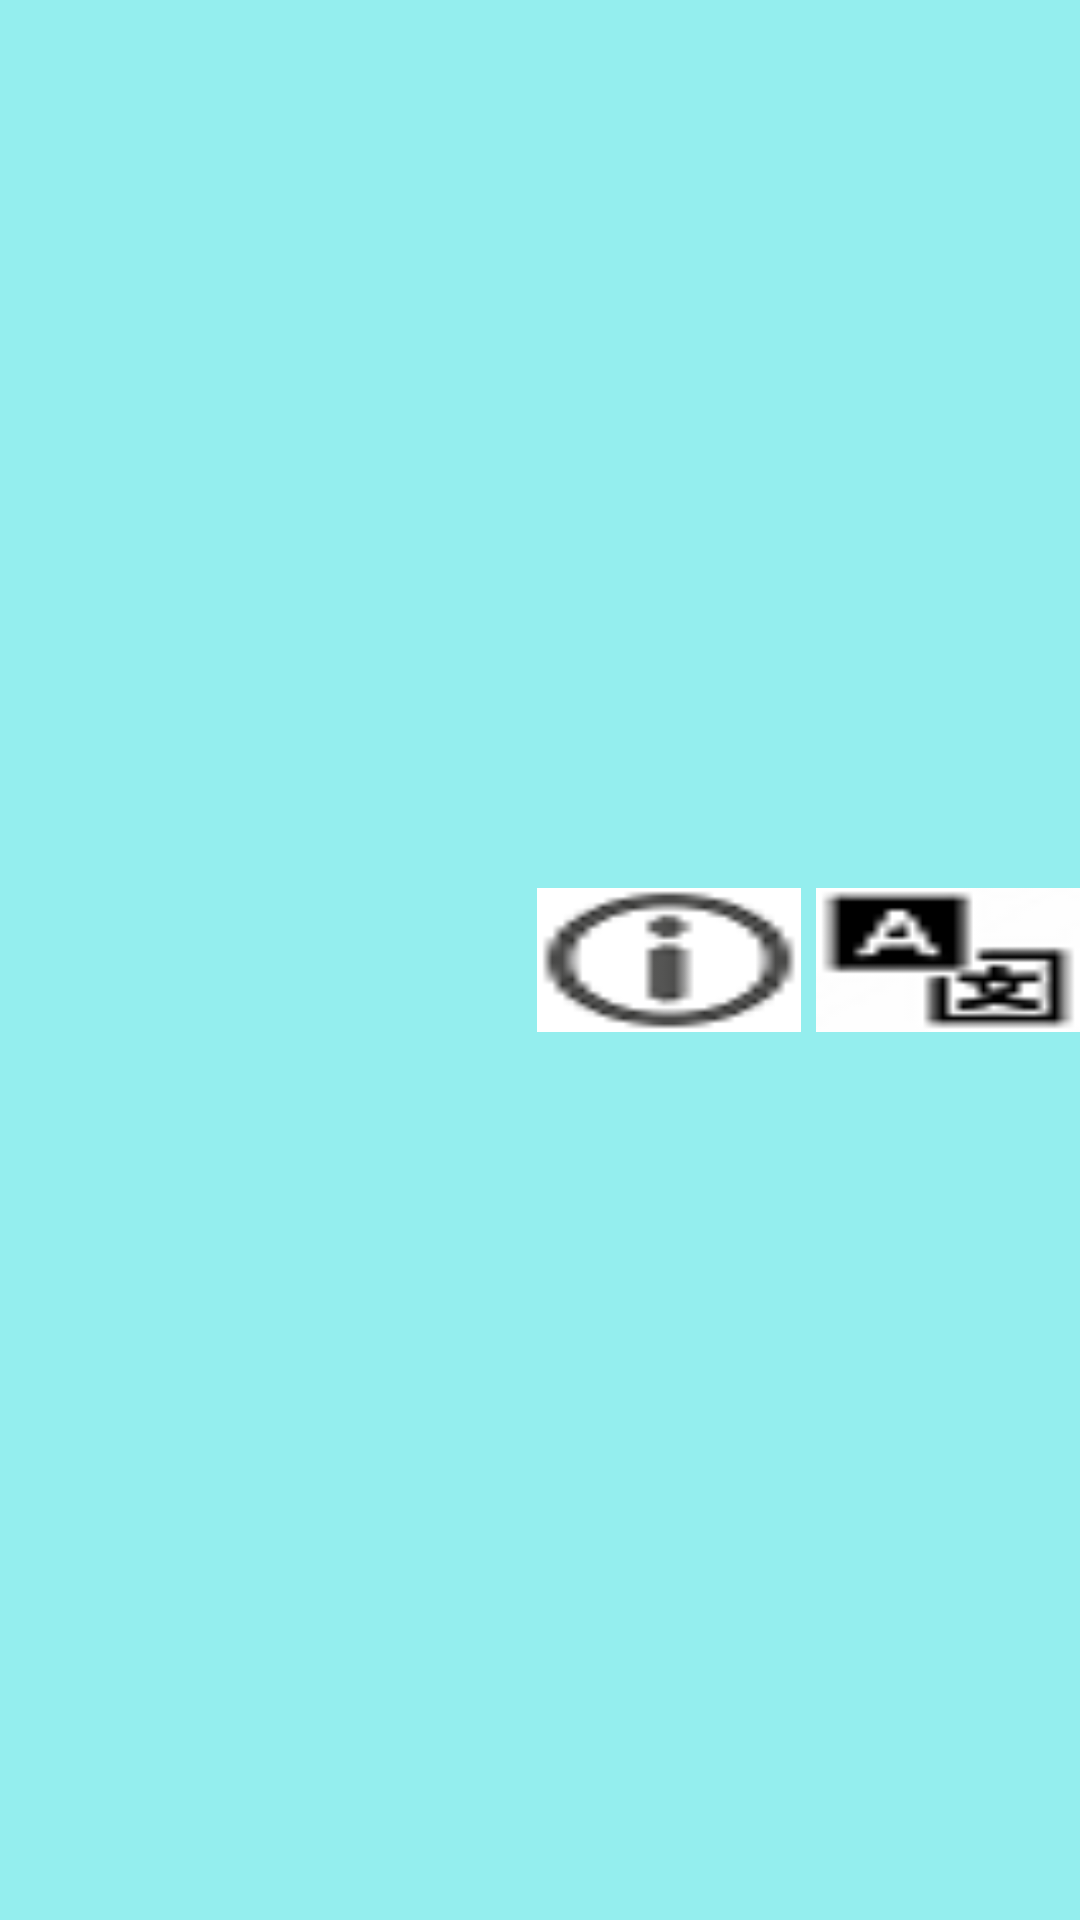

Icon bounding boxes for this 1080px×1920px phone screenshot, format (x1, y1, x2, y2):
lang change: (816, 888, 1080, 1032)
